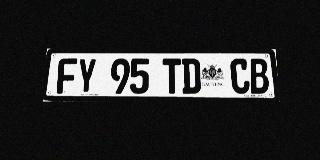5: (130, 58, 149, 94)
9: (110, 58, 130, 94)
B: (249, 59, 270, 94)
C: (230, 59, 250, 94)
D: (182, 58, 201, 94)
F: (56, 58, 77, 94)
T: (163, 58, 181, 94)
Y: (76, 58, 97, 94)
